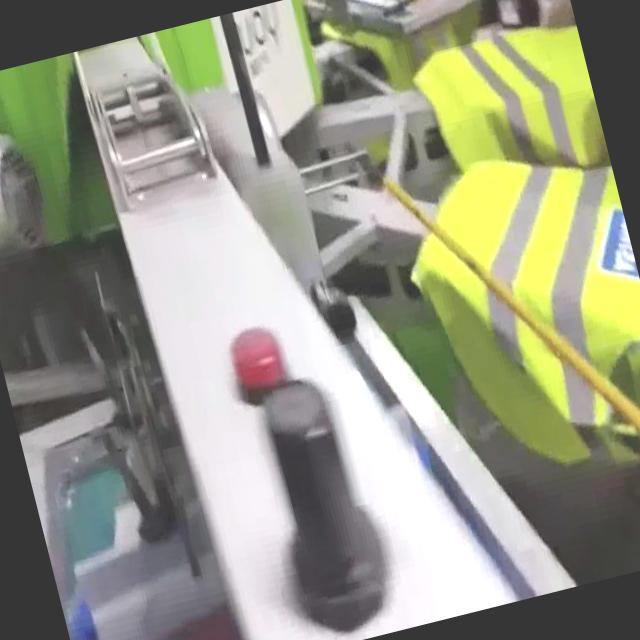vest: (383, 130, 640, 495), (405, 8, 610, 204)
